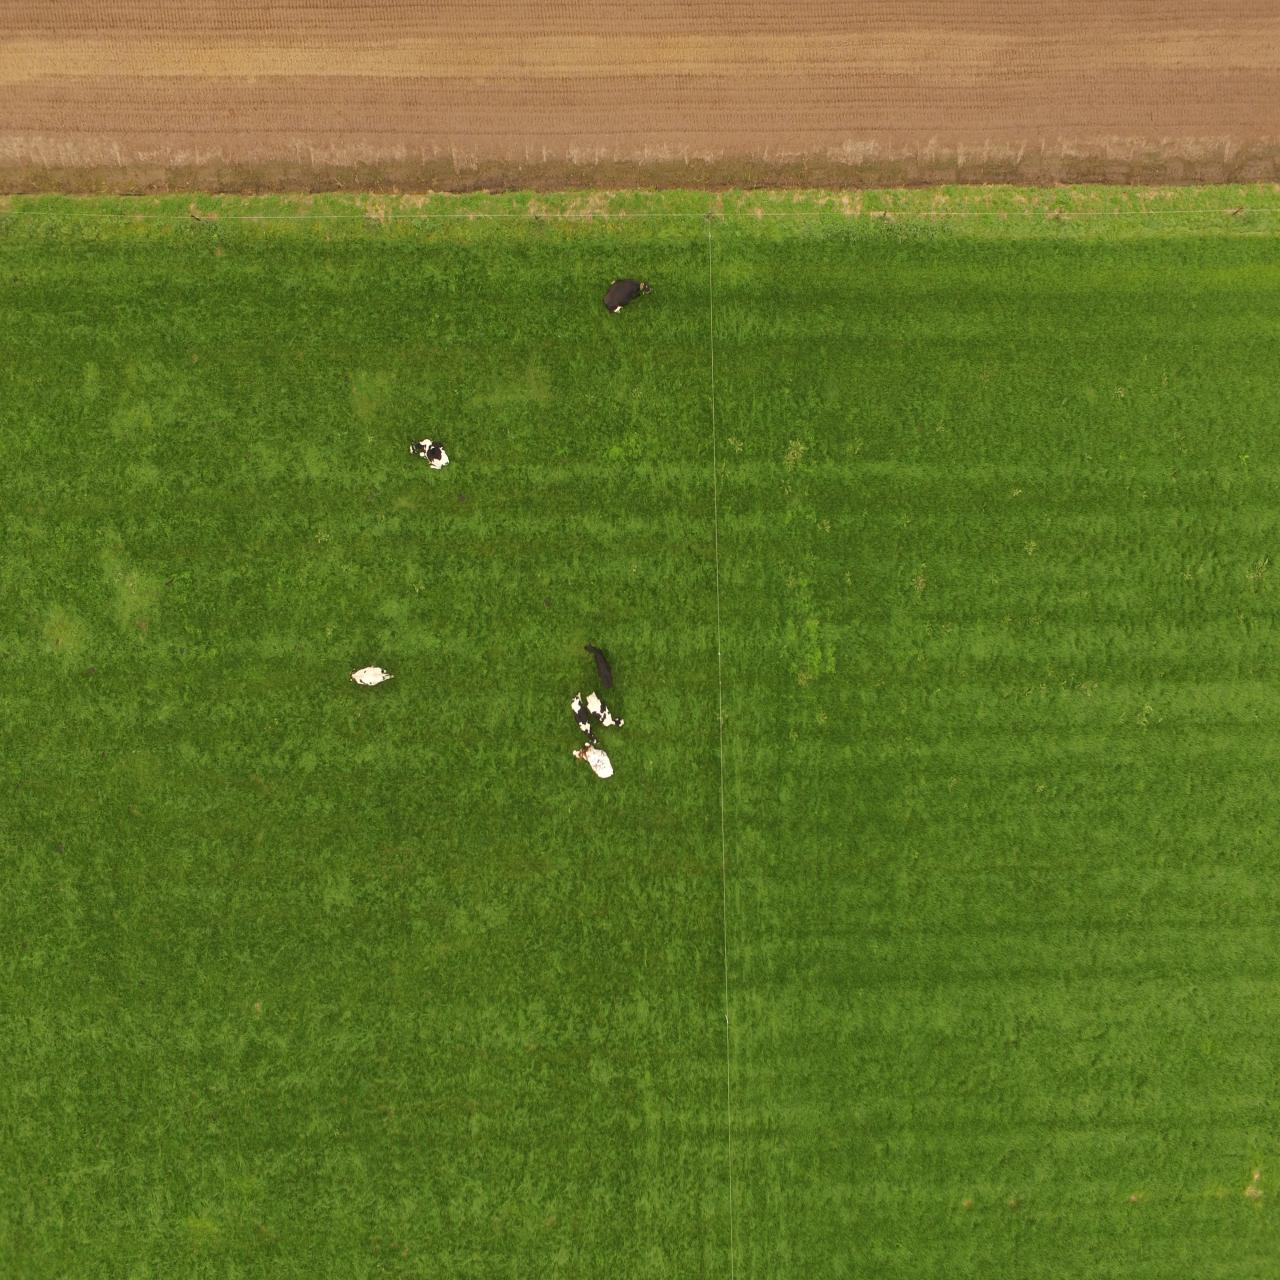cow: (595, 260, 652, 325), (568, 742, 614, 781), (570, 690, 600, 744), (579, 639, 614, 685), (408, 437, 454, 470), (586, 693, 627, 729), (348, 667, 395, 681)
